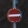No entry: (5, 6, 23, 23)
